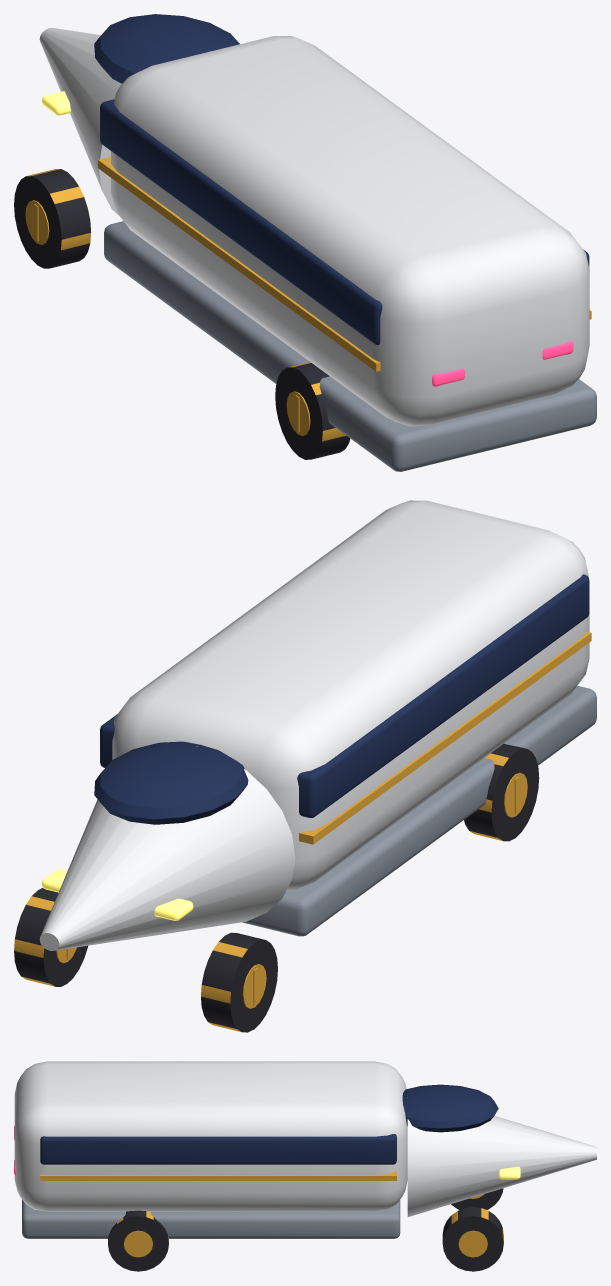
The model's file is train-bullet.glb.
The picture shows the model from 3 angles, top to bottom: view 1: azimuth 30°, elevation 25°; view 2: azimuth 150°, elevation 25°; view 3: azimuth 270°, elevation 25°; orthographic projection. The views are drawn at different scales.
Visible parts, largest first — view 1: body, wheel_FL, wheel_RL; view 2: body, wheel_FL, wheel_RL, wheel_FR; view 3: body, wheel_FR, wheel_RR, wheel_FL.
Boxes of the visible parts, left/top/right/bottom form: body: left=39, top=14, right=596, bottom=471; wheel_FL: left=14, top=169, right=91, bottom=268; wheel_RL: left=275, top=362, right=350, bottom=459; body: left=39, top=500, right=596, bottom=950; wheel_FL: left=201, top=932, right=277, bottom=1032; wheel_RL: left=464, top=743, right=539, bottom=841; wheel_FR: left=14, top=888, right=87, bottom=986; body: left=14, top=1061, right=596, bottom=1238; wheel_FR: left=442, top=1207, right=503, bottom=1271; wheel_RR: left=108, top=1210, right=168, bottom=1271; wheel_FL: left=451, top=1188, right=503, bottom=1209.
Bounding box in the file's own units: 2.24 × 2.34 × 8.01.
